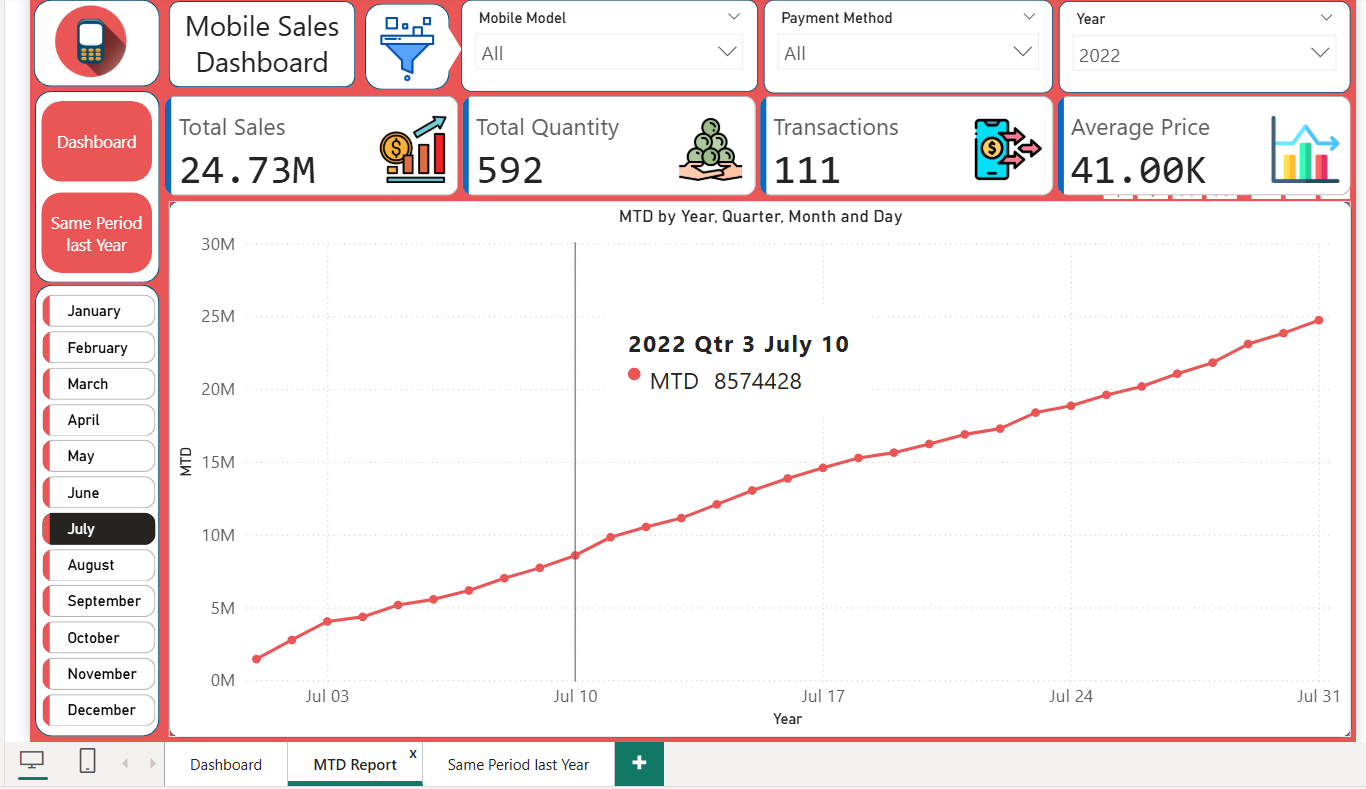

Layout of this report page (visuals, bound fields, positions):
{"tool":"powerbi","page":{"name":"MTD Report","canvas":[1280,720],"ordinal":1},"visuals":[{"type":"shape","box":[4.1,4.1,121.6,83.8],"z":0},{"type":"image","box":[13.8,0,102.5,98.8],"z":1000},{"type":"shape","box":[5.4,91.9,120.3,185.1],"z":2000},{"type":"slicer","fields":{"Values":["Mobile Sales Data.Mobile Model"]},"box":[416.2,3.8,286.2,88.5],"z":3000},{"type":"slicer","fields":{"Values":["Custom_Calender.Date.Variation.Date Hierarchy.Year"]},"box":[992.9,4.3,281.4,88.6],"z":4000},{"type":"slicer","fields":{"Values":["Mobile Sales Data.Payment Method"]},"box":[708.5,3.1,279.2,90],"z":5000},{"type":"shape","box":[323.3,7.5,81.7,83.3],"z":6000},{"type":"shape","box":[383.1,23.8,33.1,54.6],"z":7000},{"type":"image","box":[256.7,14.2,215,74.2],"z":8000},{"type":"shape","box":[133.3,5,180,83.3],"z":9000},{"type":"textbox","box":[133.6,5,180,88.6],"z":10000},{"type":"lineChart","fields":{"Y":["Mobile Sales Data.MTD"],"Category":["Custom_Calender.Date.Variation.Date Hierarchy.Year","Custom_Calender.Date.Variation.Date Hierarchy.Quarter","Custom_Calender.Date.Variation.Date Hierarchy.Month","Custom_Calender.Date.Variation.Date Hierarchy.Day"]},"box":[133.9,197.9,1141.3,517.6],"z":11000},{"type":"shape","box":[5.4,278.5,120,436.2],"z":12000},{"type":"advancedSlicerVisual","fields":{"Values":["Custom_Calender.Date.Variation.Date Hierarchy.Month"]},"box":[6.9,283.9,119.4,436.1],"z":13000},{"type":"pageNavigator","box":[10.9,101.3,107.4,167.7],"z":14000},{"type":"cardVisual","fields":{"Data":["Mobile Sales Data.Total_Sales","Mobile Sales Data.Total Quantity","Mobile Sales Data.Transaction","Mobile Sales Data.Average_Price"]},"box":[125,91.7,1155,106.7],"z":15000}]}

Visuals, with their boxes on the page's 1280x720 design canvas (x1, y1, x2, y2). These are canvas units, not pixel positions in the 1366x789 screenshot, which may show the page scaled, cropped or inside an application window:
shape: pyautogui.locateOnScreen(4, 4, 126, 88)
image: pyautogui.locateOnScreen(14, 0, 116, 99)
shape: pyautogui.locateOnScreen(5, 92, 126, 277)
slicer - Mobile Sales Data.Mobile Model: pyautogui.locateOnScreen(416, 4, 702, 92)
slicer - Custom_Calender.Date.Variation.Date Hierarchy.Year: pyautogui.locateOnScreen(993, 4, 1274, 93)
slicer - Mobile Sales Data.Payment Method: pyautogui.locateOnScreen(708, 3, 988, 93)
shape: pyautogui.locateOnScreen(323, 8, 405, 91)
shape: pyautogui.locateOnScreen(383, 24, 416, 78)
image: pyautogui.locateOnScreen(257, 14, 472, 88)
shape: pyautogui.locateOnScreen(133, 5, 313, 88)
textbox: pyautogui.locateOnScreen(134, 5, 314, 94)
lineChart - Mobile Sales Data.MTD x Custom_Calender.Date.Variation.Date Hierarchy.Year: pyautogui.locateOnScreen(134, 198, 1275, 716)
shape: pyautogui.locateOnScreen(5, 278, 125, 715)
advancedSlicerVisual - Custom_Calender.Date.Variation.Date Hierarchy.Month: pyautogui.locateOnScreen(7, 284, 126, 720)
pageNavigator: pyautogui.locateOnScreen(11, 101, 118, 269)
cardVisual - Mobile Sales Data.Total_Sales x Mobile Sales Data.Total Quantity: pyautogui.locateOnScreen(125, 92, 1280, 198)
